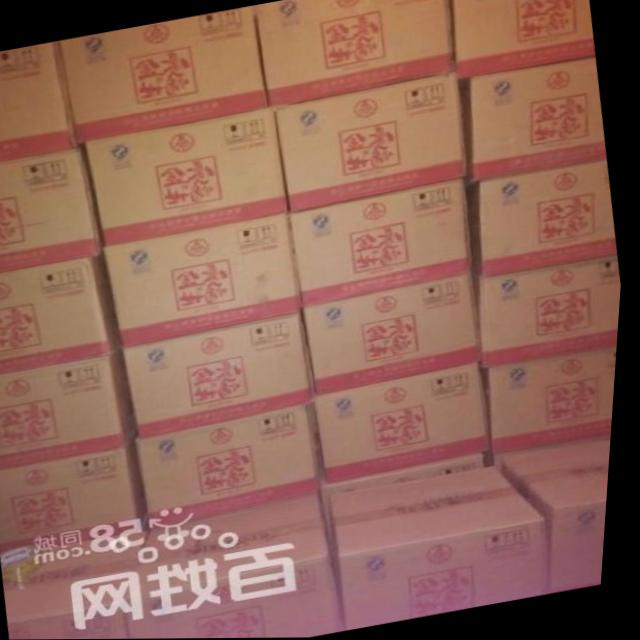box: (336, 464, 557, 631), (135, 494, 353, 639), (60, 6, 269, 144), (85, 108, 292, 245), (276, 72, 470, 211), (106, 214, 305, 346), (126, 312, 319, 439), (141, 404, 328, 531), (292, 180, 476, 305), (254, 0, 456, 108), (307, 275, 488, 395), (318, 364, 496, 484), (459, 57, 609, 183), (503, 439, 617, 594), (0, 346, 140, 470), (0, 440, 155, 549), (483, 162, 621, 277), (483, 256, 625, 367), (11, 532, 153, 640), (0, 255, 124, 375), (493, 349, 622, 454), (0, 148, 104, 273), (453, 0, 596, 80), (0, 40, 79, 161)
